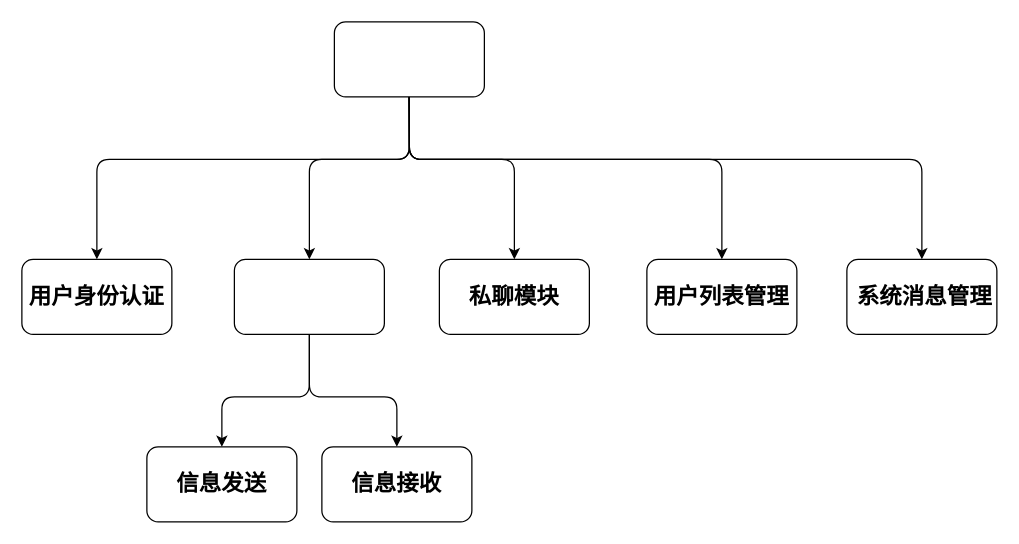
Some shapes in this 1019 by 544 pixel diagram are drawn without their labels. The shapes that lost their labels are listed below. From the top down, each one's centre as x and y in pixels, then its label:
At point 408,59: "在线聊天室".
At point 308,296: "信息处理".
